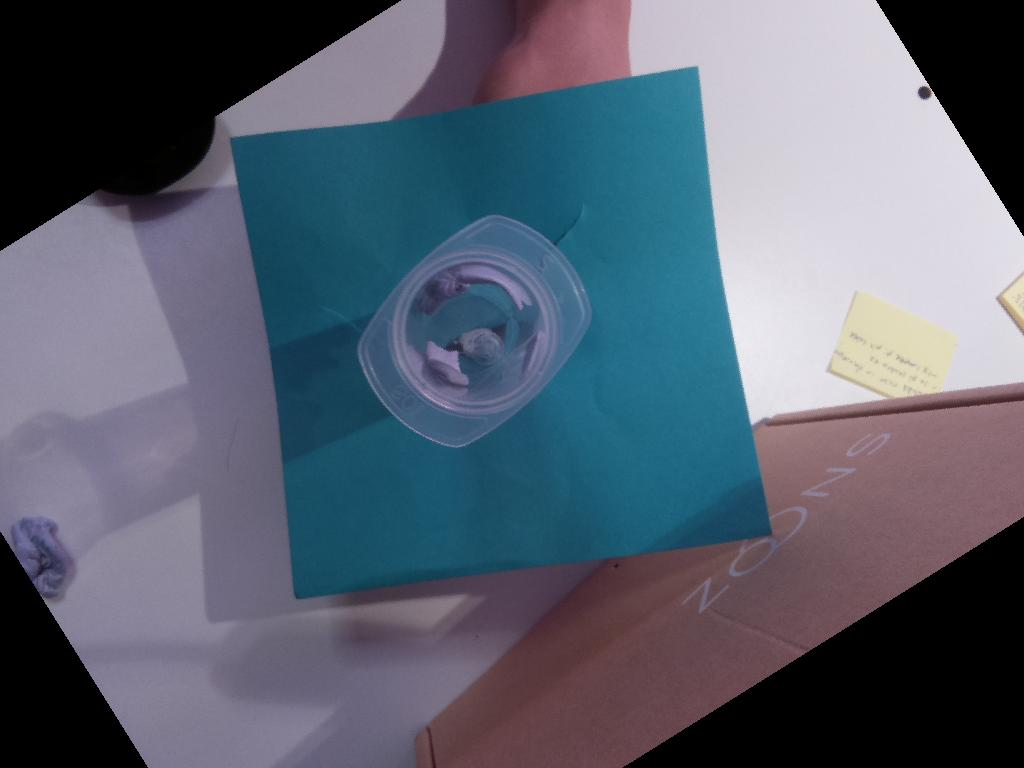dirty: (349, 204, 596, 453)
